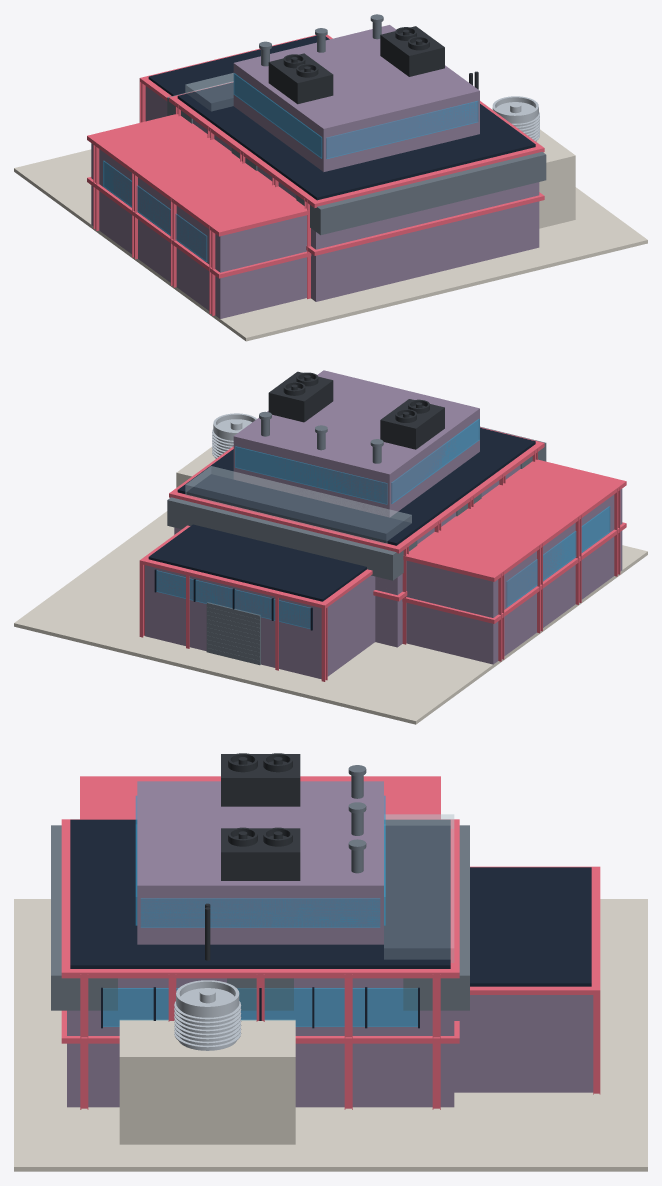
File: hq_05_chassis_l4.glb
3 renders of one model, top to bottom at view 1: azimuth 30°, elevation 25°; view 2: azimuth 150°, elevation 25°; view 3: azimuth 270°, elevation 25°, orthographic. The views are drawn at different scales.
Visible parts, largest first — view 1: GEO_Chassis_Damper_Lab_Shell, GEO_Chassis_KC_Structural_Beams, GEO_Chassis_Foundation_Plinth, GEO_Chassis_KC_Wing_Brick, GEO_Chassis_Brick_Halls, GEO_Chassis_Roof_Parapets_HVAC, GEO_Chassis_Upper_Corrugated_Siding, GEO_Chassis_Structural_Steel_Beams, GEO_Chassis_Damper_Lab_Windows, GEO_Chassis_Rooftop_Chillers_Conduits, GEO_Chassis_Hydraulic_Pump_Annex, GEO_Chassis_KC_Ribbon_Glass (+3 smaller); view 2: GEO_Chassis_Foundation_Plinth, GEO_Chassis_Damper_Lab_Shell, GEO_Chassis_Roof_Parapets_HVAC, GEO_Chassis_KC_Structural_Beams, GEO_Chassis_KC_Wing_Brick, GEO_Chassis_Brick_Halls, GEO_Chassis_Structural_Steel_Beams, GEO_Chassis_Telemetry_Mezzanine_Glass, GEO_Chassis_Upper_Corrugated_Siding, GEO_Chassis_Damper_Lab_Windows, GEO_Chassis_Rooftop_Chillers_Conduits, GEO_Chassis_Clerestory_Ribbon_Glass (+5 smaller); view 3: GEO_Chassis_Foundation_Plinth, GEO_Chassis_Roof_Parapets_HVAC, GEO_Chassis_Brick_Halls, GEO_Chassis_Damper_Lab_Shell, GEO_Chassis_Hydraulic_Pump_Annex, GEO_Chassis_Structural_Steel_Beams, GEO_Chassis_Telemetry_Mezzanine_Glass, GEO_Chassis_Upper_Corrugated_Siding, GEO_Chassis_Rooftop_Chillers_Conduits, GEO_Chassis_Clerestory_Ribbon_Glass, GEO_Chassis_Damper_Lab_Windows, GEO_Chassis_KC_Structural_Beams (+3 smaller).
Part boxes in pixels (box(x1,y1,x2,y2)): GEO_Chassis_Damper_Lab_Shell: box(233, 25, 479, 171); GEO_Chassis_KC_Structural_Beams: box(87, 114, 311, 316); GEO_Chassis_Foundation_Plinth: box(14, 149, 647, 341); GEO_Chassis_KC_Wing_Brick: box(91, 143, 306, 318); GEO_Chassis_Brick_Halls: box(145, 86, 539, 301); GEO_Chassis_Roof_Parapets_HVAC: box(148, 35, 535, 200); GEO_Chassis_Upper_Corrugated_Siding: box(167, 81, 546, 235); GEO_Chassis_Structural_Steel_Beams: box(139, 34, 544, 299); GEO_Chassis_Damper_Lab_Windows: box(233, 73, 478, 158); GEO_Chassis_Rooftop_Chillers_Conduits: box(268, 26, 478, 104); GEO_Chassis_Hydraulic_Pump_Annex: box(536, 129, 575, 228); GEO_Chassis_KC_Ribbon_Glass: box(103, 161, 207, 261); GEO_Chassis_Foundation_Plinth: box(14, 511, 647, 724); GEO_Chassis_Damper_Lab_Shell: box(233, 370, 479, 517); GEO_Chassis_Roof_Parapets_HVAC: box(148, 427, 535, 601); GEO_Chassis_KC_Structural_Beams: box(402, 459, 626, 661); GEO_Chassis_KC_Wing_Brick: box(406, 489, 622, 664); GEO_Chassis_Brick_Halls: box(145, 465, 520, 679); GEO_Chassis_Structural_Steel_Beams: box(139, 427, 544, 681); GEO_Chassis_Telemetry_Mezzanine_Glass: box(185, 466, 411, 544); GEO_Chassis_Upper_Corrugated_Siding: box(167, 426, 546, 580); GEO_Chassis_Damper_Lab_Windows: box(235, 419, 479, 504); GEO_Chassis_Rooftop_Chillers_Conduits: box(268, 371, 444, 449); GEO_Chassis_Clerestory_Ribbon_Glass: box(156, 570, 310, 628); GEO_Chassis_Foundation_Plinth: box(14, 899, 647, 1171); GEO_Chassis_Roof_Parapets_HVAC: box(70, 819, 591, 986); GEO_Chassis_Brick_Halls: box(67, 978, 593, 1107); GEO_Chassis_Damper_Lab_Shell: box(137, 781, 383, 944); GEO_Chassis_Hydraulic_Pump_Annex: box(119, 1020, 295, 1144); GEO_Chassis_Structural_Steel_Beams: box(61, 819, 600, 1109); GEO_Chassis_Telemetry_Mezzanine_Glass: box(384, 814, 454, 962); GEO_Chassis_Upper_Corrugated_Siding: box(51, 825, 469, 1010); GEO_Chassis_Rooftop_Chillers_Conduits: box(205, 753, 300, 960); GEO_Chassis_Clerestory_Ribbon_Glass: box(103, 988, 417, 1026); GEO_Chassis_Damper_Lab_Windows: box(135, 795, 385, 927); GEO_Chassis_KC_Structural_Beams: box(80, 776, 440, 819).
Size of what is drawn, in the model's own units: 36.27 by 15.15 by 36.
